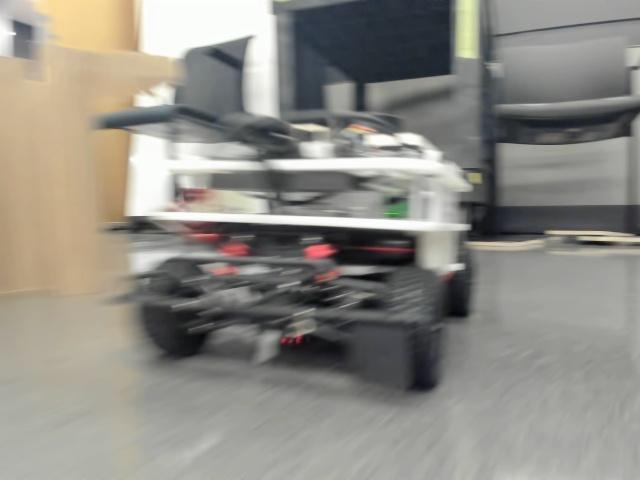Car: (120, 102, 474, 385)
